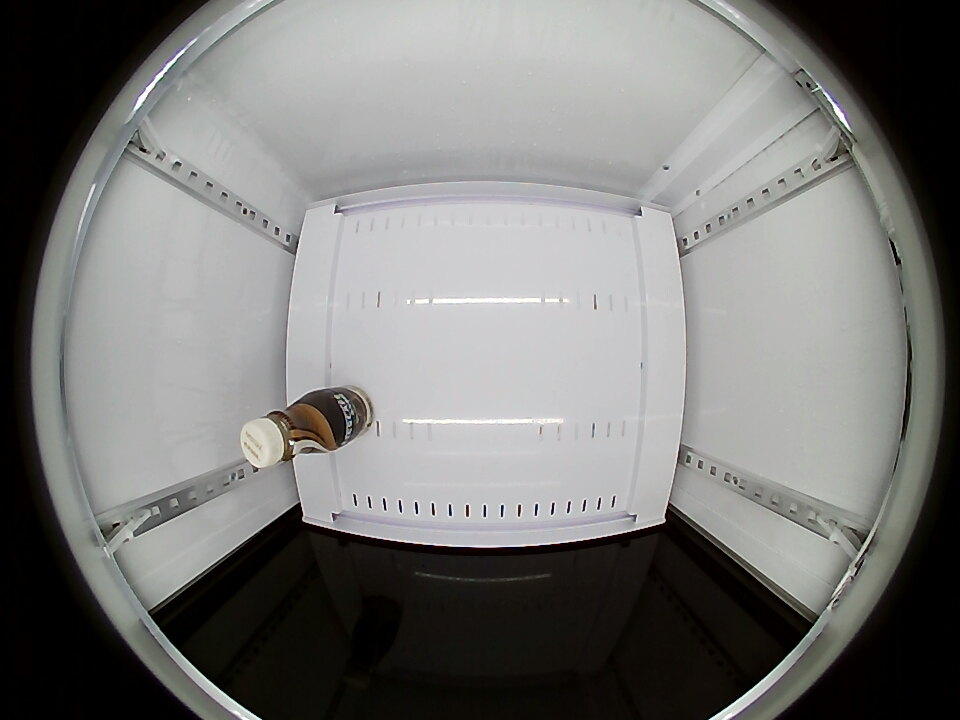kafei: (240, 392, 341, 466)
